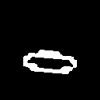chain: (23, 50, 76, 73)
